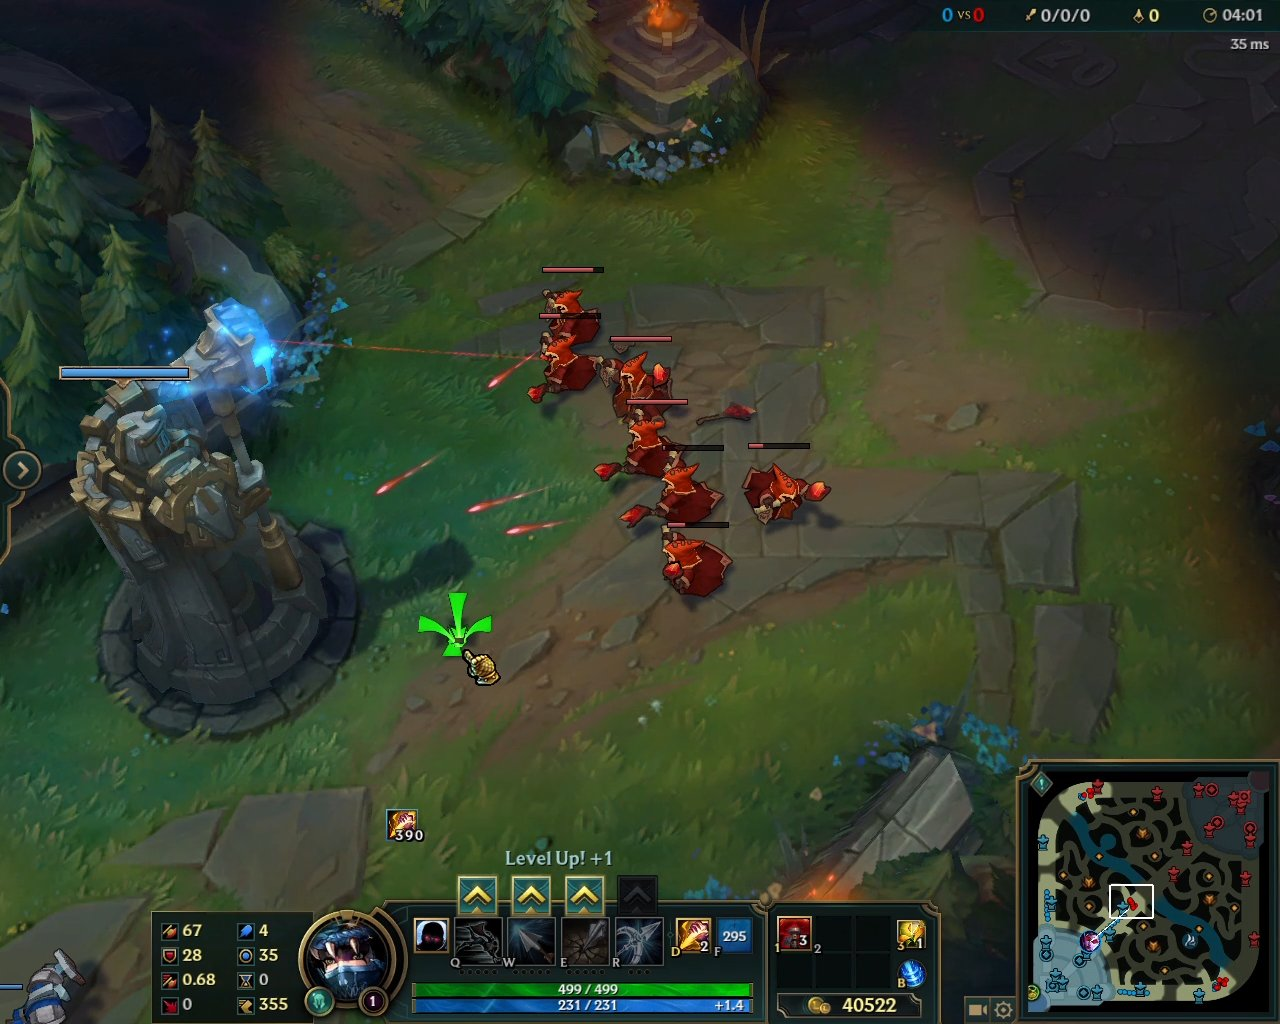EnemyMinion: (619, 444, 723, 532), (738, 443, 834, 530), (591, 398, 689, 483), (519, 311, 603, 406), (598, 335, 677, 424), (655, 521, 736, 602), (539, 266, 604, 346)
